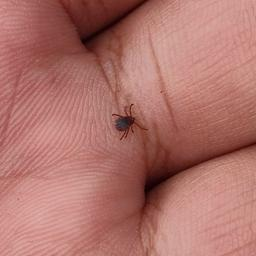Rhipicephalus sanguineus: (111, 103, 147, 141)
